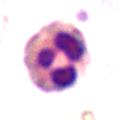neutrophil: (21, 20, 89, 93)
